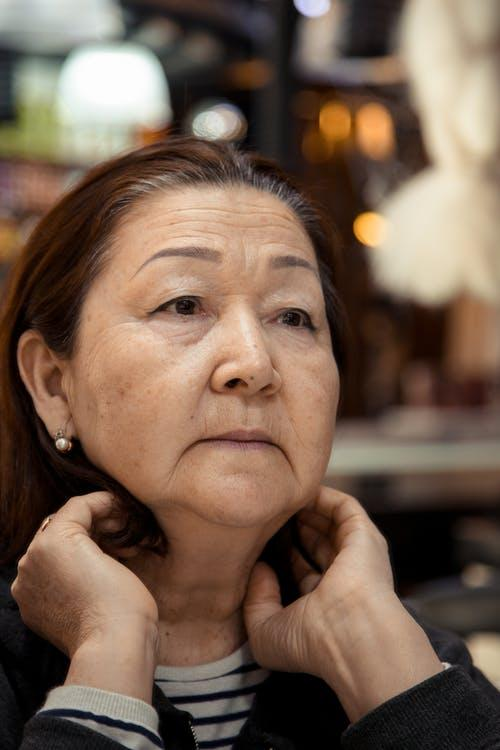Wrinkles: (147, 207, 301, 227), (154, 221, 294, 229), (263, 242, 312, 258), (194, 229, 230, 238), (167, 235, 213, 239)
